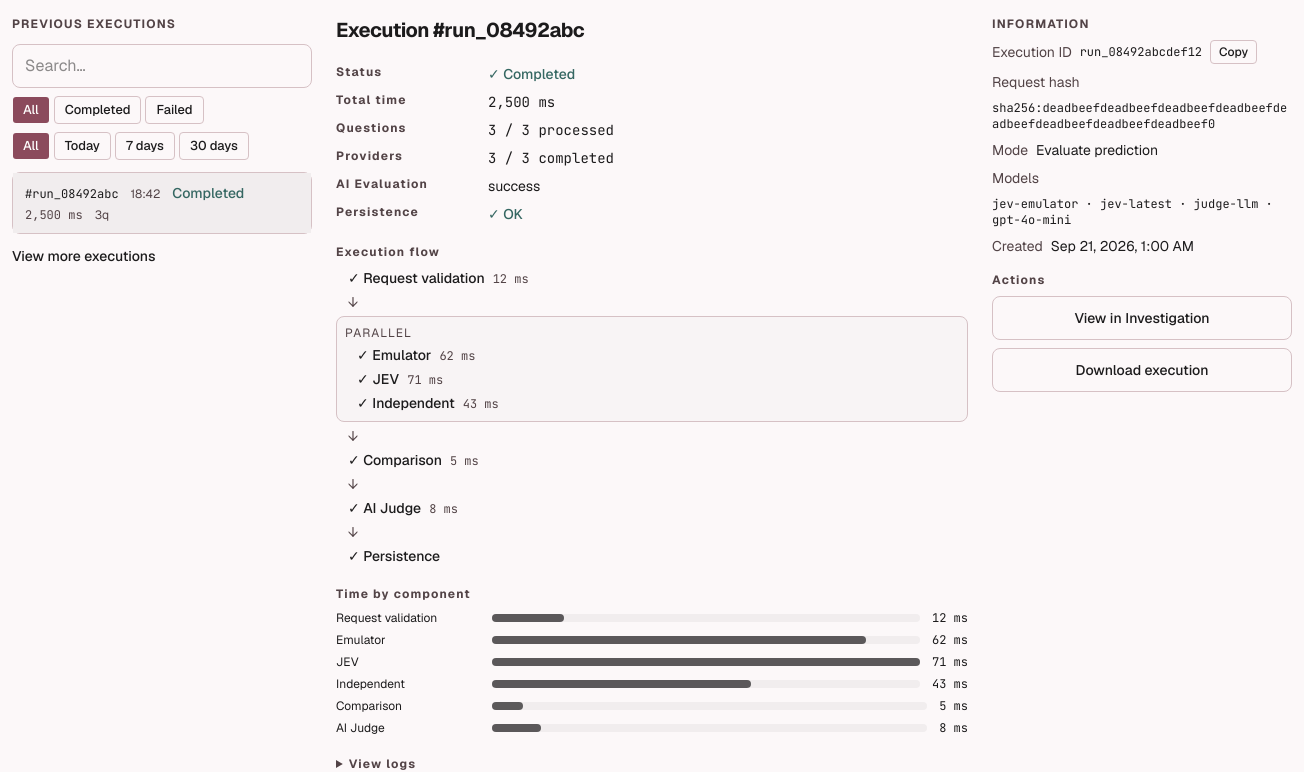
Test: OperationView — log panel (§61.5) › keeps the details element collapsed by default and reveals the sanitized lines on demand
The image size is (1304, 772).
(page scrolled)
Click the heading "View logs".
click(382, 764)  # box [349,756,416,771]
(page scrolled)
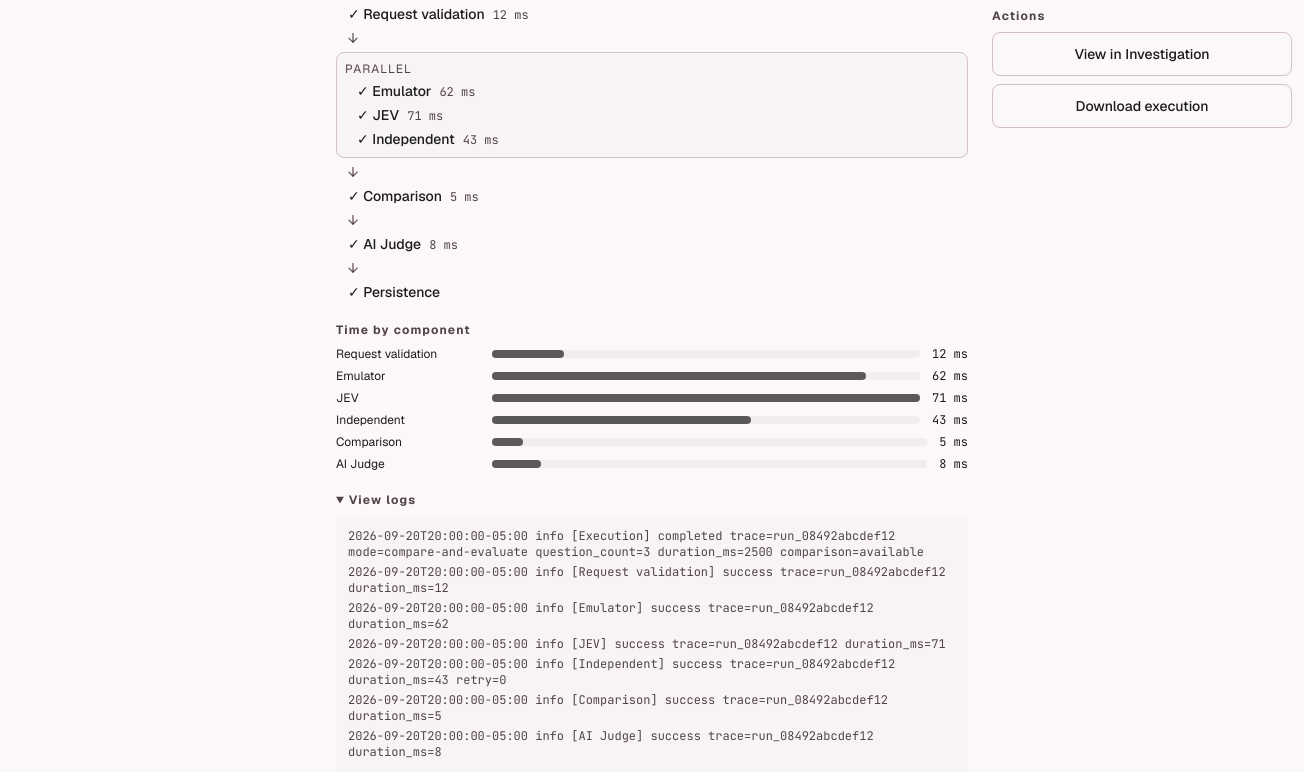
Now the element with test id "operation-log-body" shows "compare-and-evaluate", box [348,544,528,560]
Now the element with test id "operation-log-body" shows "question_count=3", box [528,544,650,560]
Now the element with test id "operation-log-body" shows "duration_ms=2500", box [650,544,773,560]
